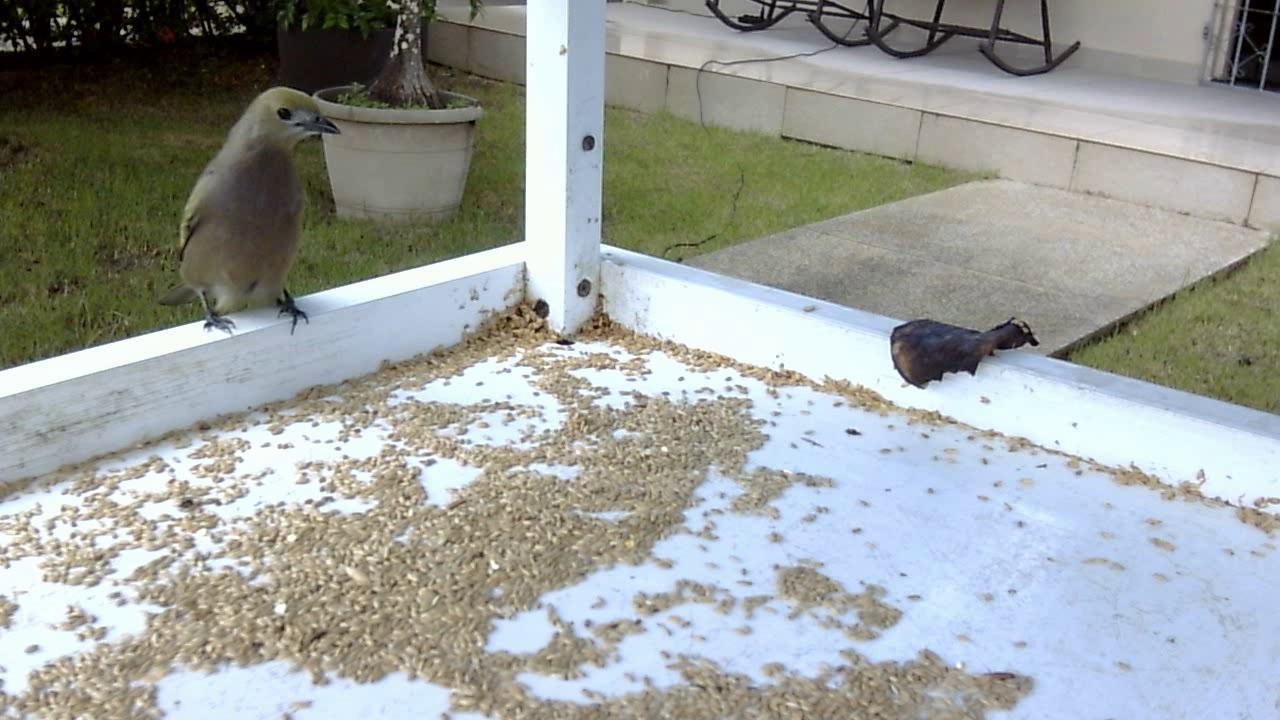sanhaco_do_coqueiro: (159, 83, 342, 345)
